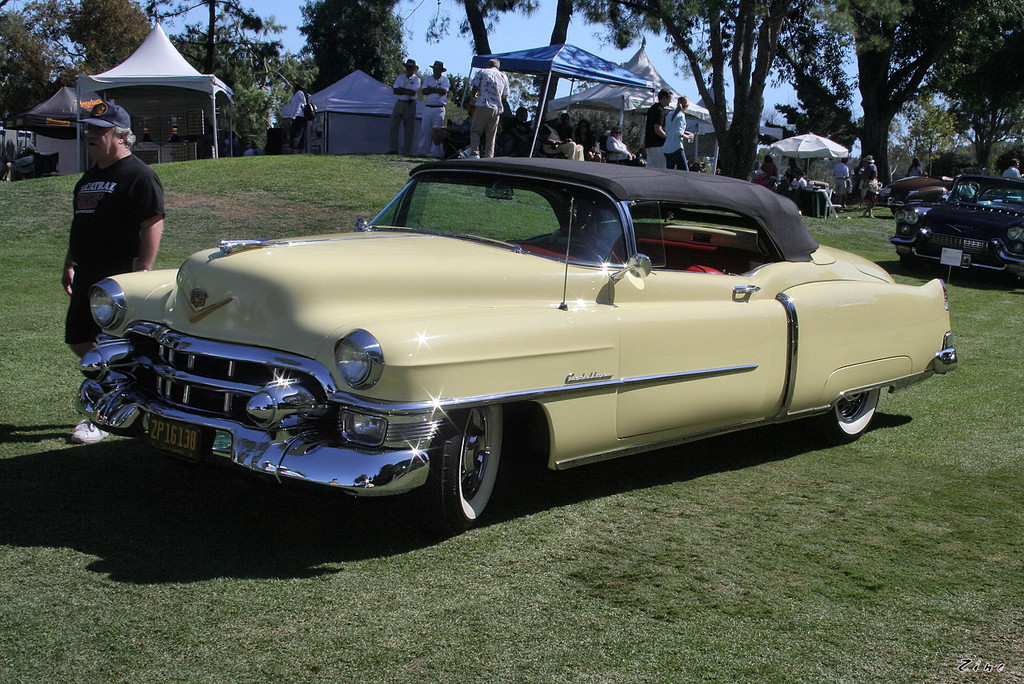Car: (73, 157, 963, 587), (883, 172, 1023, 299)
